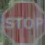Stop: (2, 3, 43, 44)
